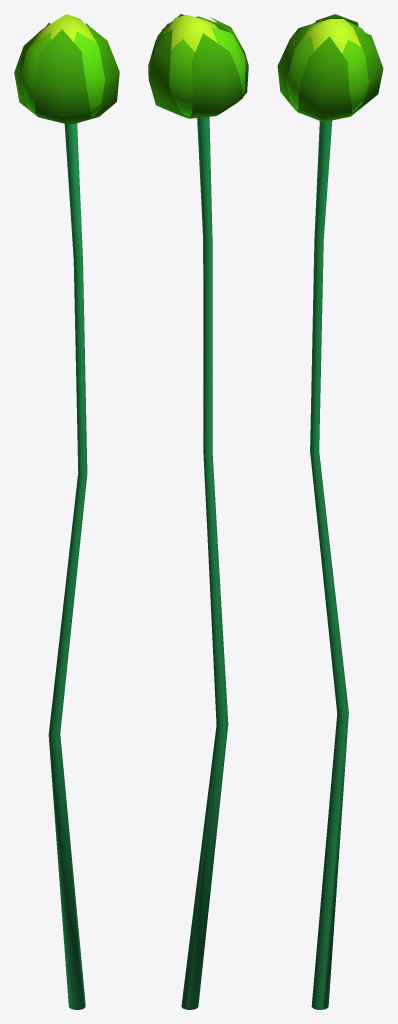
File: AmericanLotus-Bud-2.fbx
The picture shows the model from 3 angles, left to right: view 1: azimuth 90°, elevation 25°; view 2: azimuth 210°, elevation 25°; view 3: azimuth 270°, elevation 25°; orthographic projection.
Visible parts, largest first — view 1: AmericanLotus-Bud-2; view 2: AmericanLotus-Bud-2; view 3: AmericanLotus-Bud-2.
Part boxes in pixels (left/top/right/bottom): AmericanLotus-Bud-2: left=14, top=14, right=119, bottom=1009; AmericanLotus-Bud-2: left=148, top=14, right=248, bottom=1009; AmericanLotus-Bud-2: left=277, top=14, right=383, bottom=1009.
Size of the model in its own units: 19.17 by 204 by 19.75.
